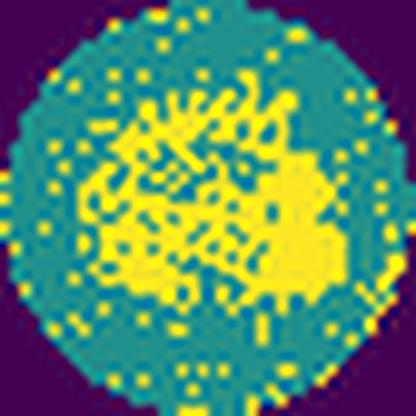Center: (77, 87, 348, 315)
